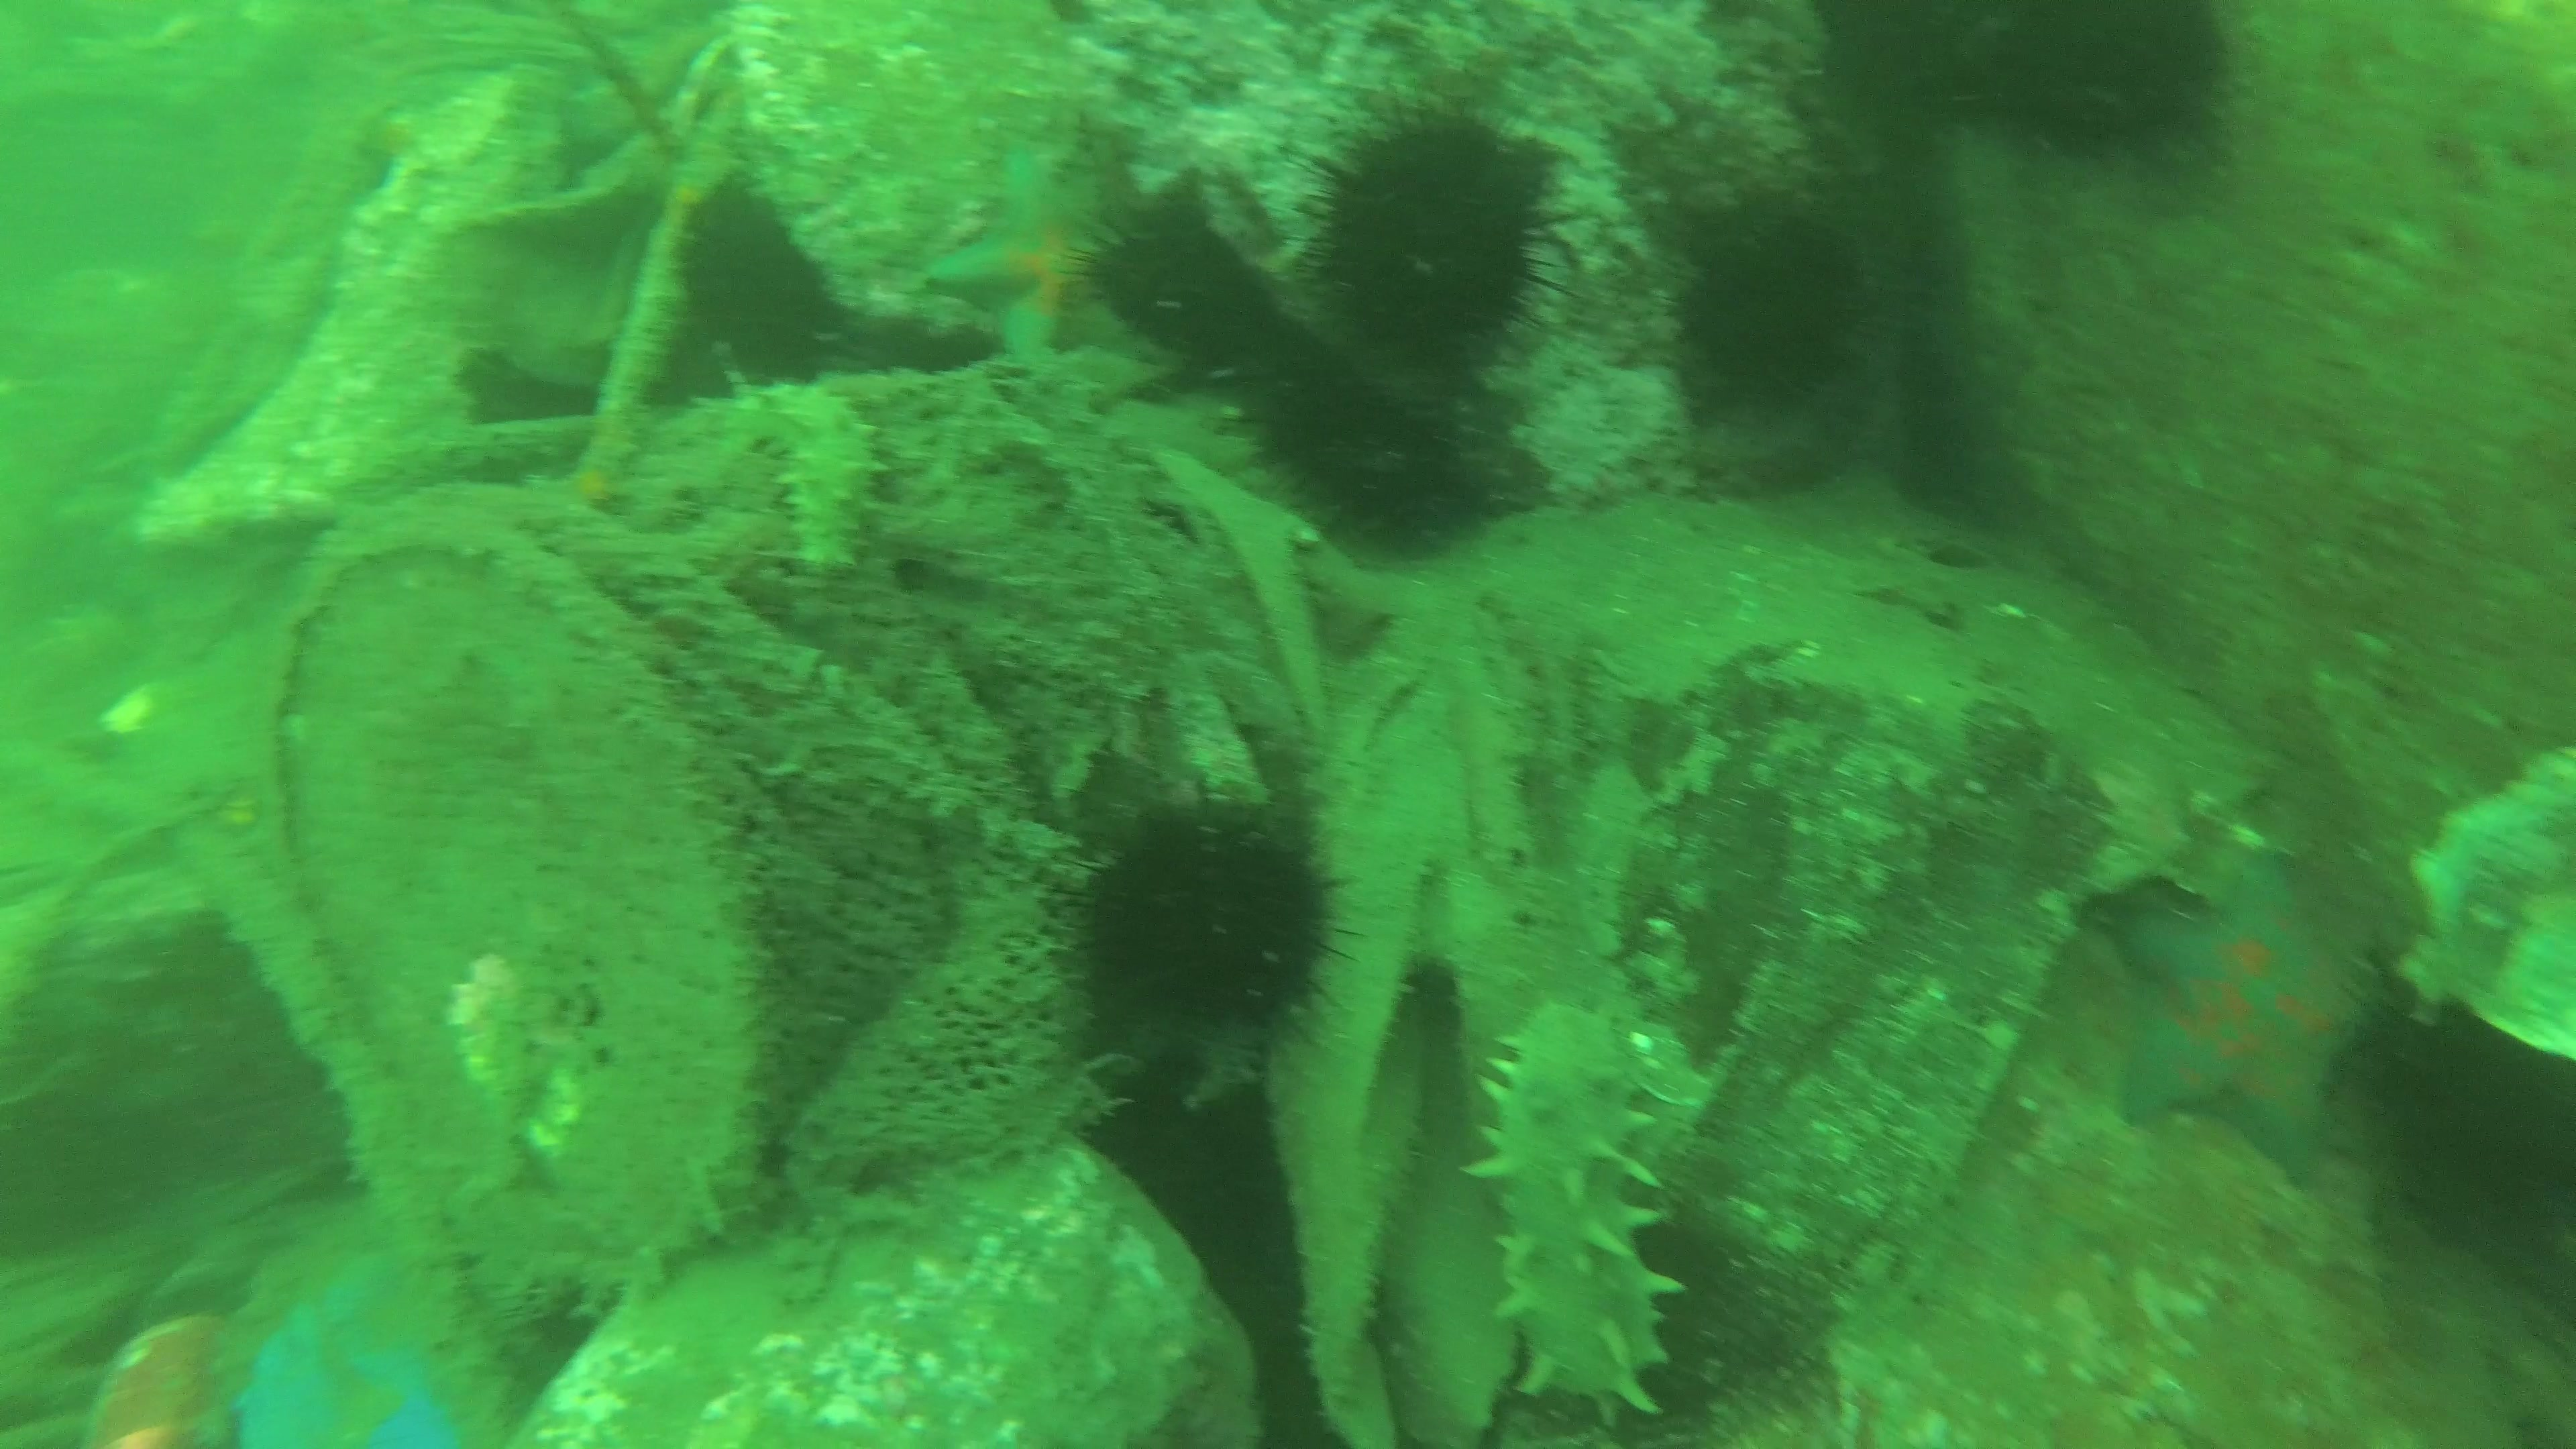echinus: (1040, 787, 1361, 1065), (1297, 87, 1575, 386), (1246, 347, 1514, 561), (1971, 0, 2240, 182), (1063, 188, 1306, 389), (1658, 203, 1882, 416), (1828, 0, 2012, 142)
holothurian: (1463, 991, 1690, 1428), (702, 375, 899, 577)
starfish: (2118, 840, 2394, 1189), (922, 149, 1184, 379)
